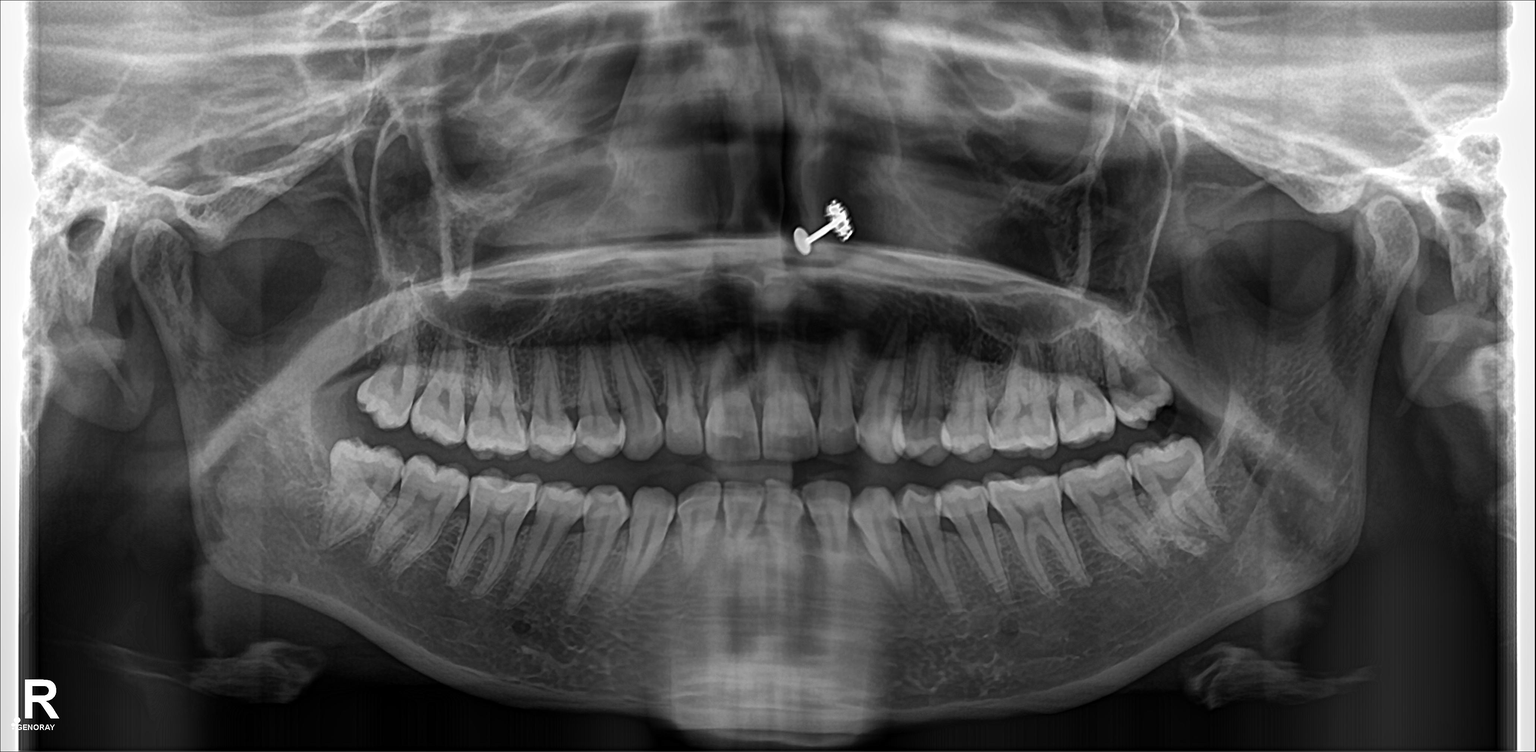Missing Tooth: (1209, 426, 1247, 514)
